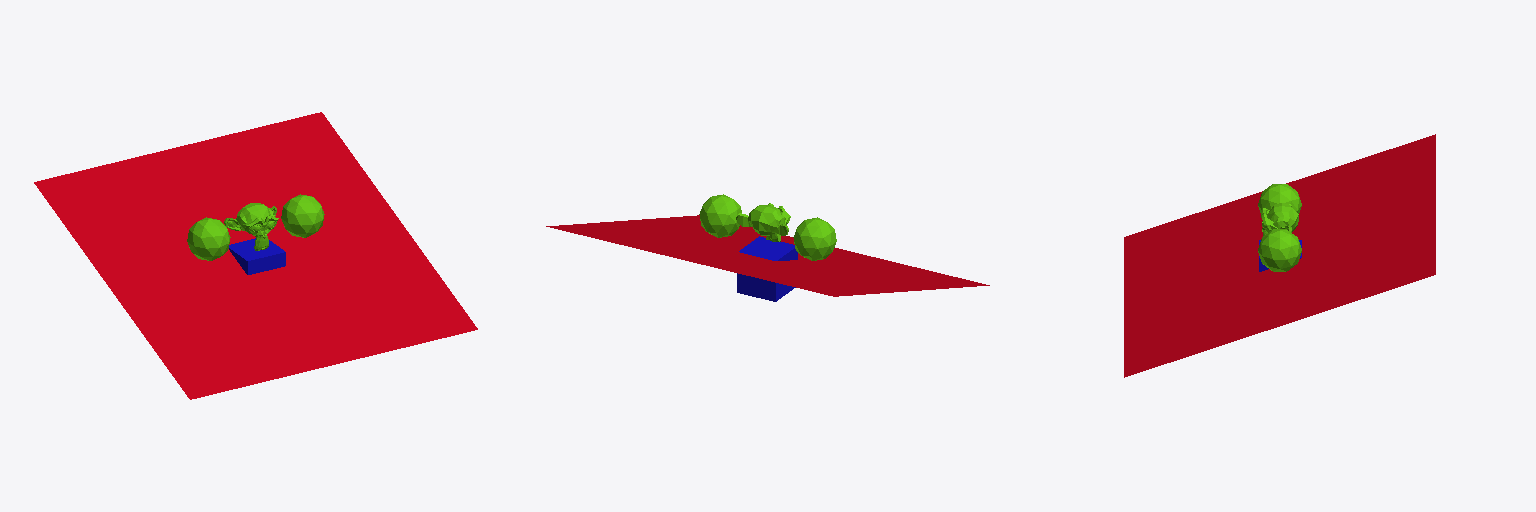
3 renders of one model, left to right at view 1: azimuth 30°, elevation 25°; view 2: azimuth 150°, elevation 25°; view 3: azimuth 270°, elevation 25°, orthographic.
Parts seen in each view (by area): view 1: 平面, 棱角球, 棱角球.001, 猴头, 立方体; view 2: 平面, 立方体, 棱角球, 棱角球.001, 猴头; view 3: 平面, 棱角球.001, 猴头, 棱角球.
Part boxes in pixels (left/top/right/bottom): 平面: left=34, top=112, right=477, bottom=399; 棱角球: left=187, top=217, right=230, bottom=260; 棱角球.001: left=281, top=194, right=324, bottom=237; 猴头: left=224, top=203, right=278, bottom=250; 立方体: left=229, top=238, right=285, bottom=274; 平面: left=546, top=215, right=989, bottom=296; 立方体: left=737, top=236, right=797, bottom=301; 棱角球: left=793, top=217, right=836, bottom=260; 棱角球.001: left=699, top=194, right=741, bottom=237; 猴头: left=736, top=203, right=790, bottom=241; 平面: left=1124, top=134, right=1435, bottom=377; 棱角球.001: left=1258, top=229, right=1301, bottom=271; 猴头: left=1261, top=203, right=1298, bottom=235; 棱角球: left=1258, top=184, right=1301, bottom=213.
Bounding box in the file's own units: 15 × 5.13 × 14.1.